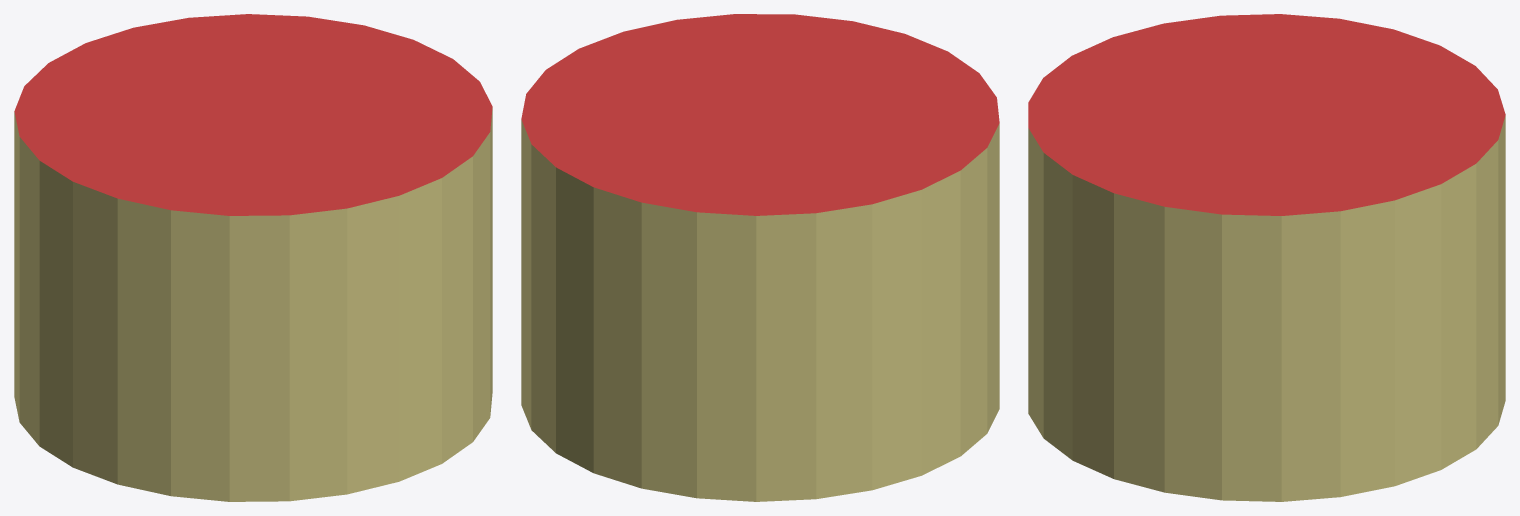
The picture shows the model from 3 angles, left to right: view 1: azimuth 30°, elevation 25°; view 2: azimuth 150°, elevation 25°; view 3: azimuth 270°, elevation 25°; orthographic projection.
Bounding box in the file's own units: 12.66 × 12.64 × 8.35.
